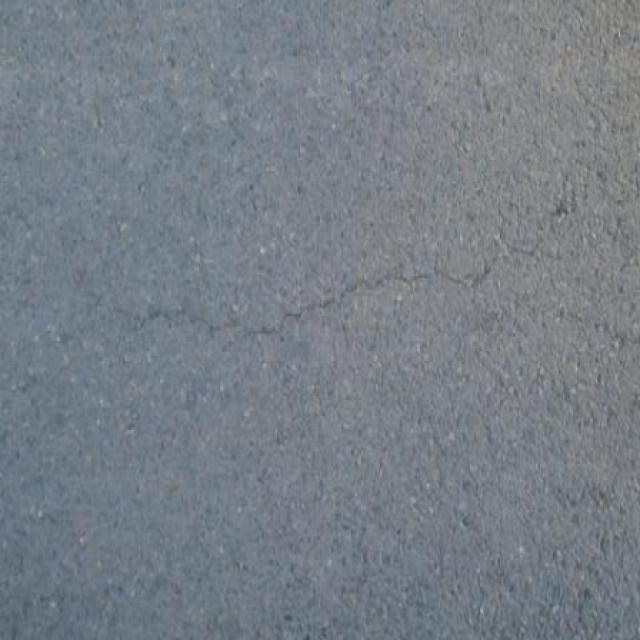Alligator Crack: (224, 154, 606, 358), (114, 236, 241, 362), (538, 265, 640, 355)
